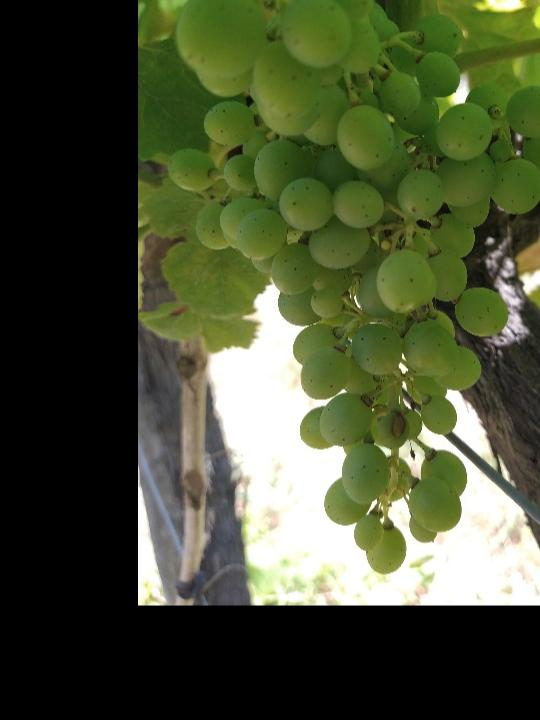grape: (168, 0, 540, 576)
